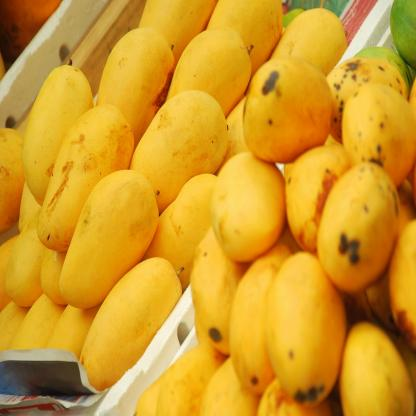--: (123, 80, 234, 229), (60, 160, 164, 316), (80, 239, 183, 395), (262, 243, 354, 401), (231, 49, 335, 163)
